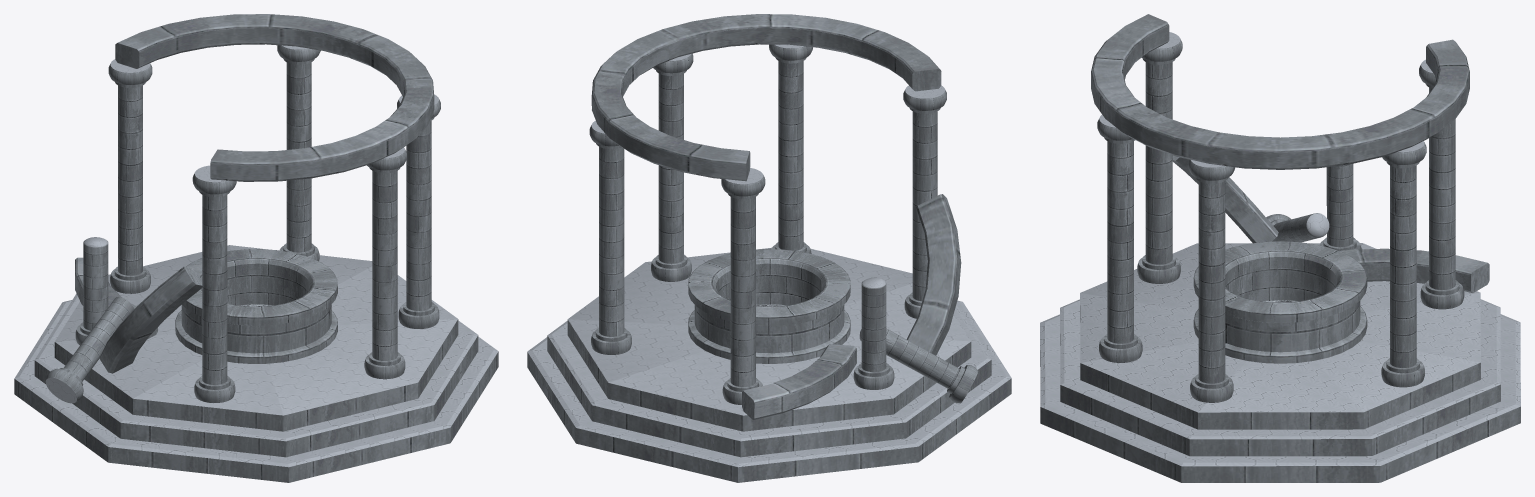
File: SM_Temple_Well.fbx
3 views of the same model, side by side, from view 1: azimuth 30°, elevation 25°; view 2: azimuth 150°, elevation 25°; view 3: azimuth 270°, elevation 25° (orthographic). The views are drawn at different scales.
Parts seen in each view (by area): view 1: SM_Temple_Well; view 2: SM_Temple_Well; view 3: SM_Temple_Well.
Boxes of the visible parts, x1,y1,x2,y2 form: SM_Temple_Well: (14,14,498,482); SM_Temple_Well: (527,14,1011,482); SM_Temple_Well: (1040,14,1520,482).
Bounding box in the file's own units: 1490 × 1035 × 1448.
